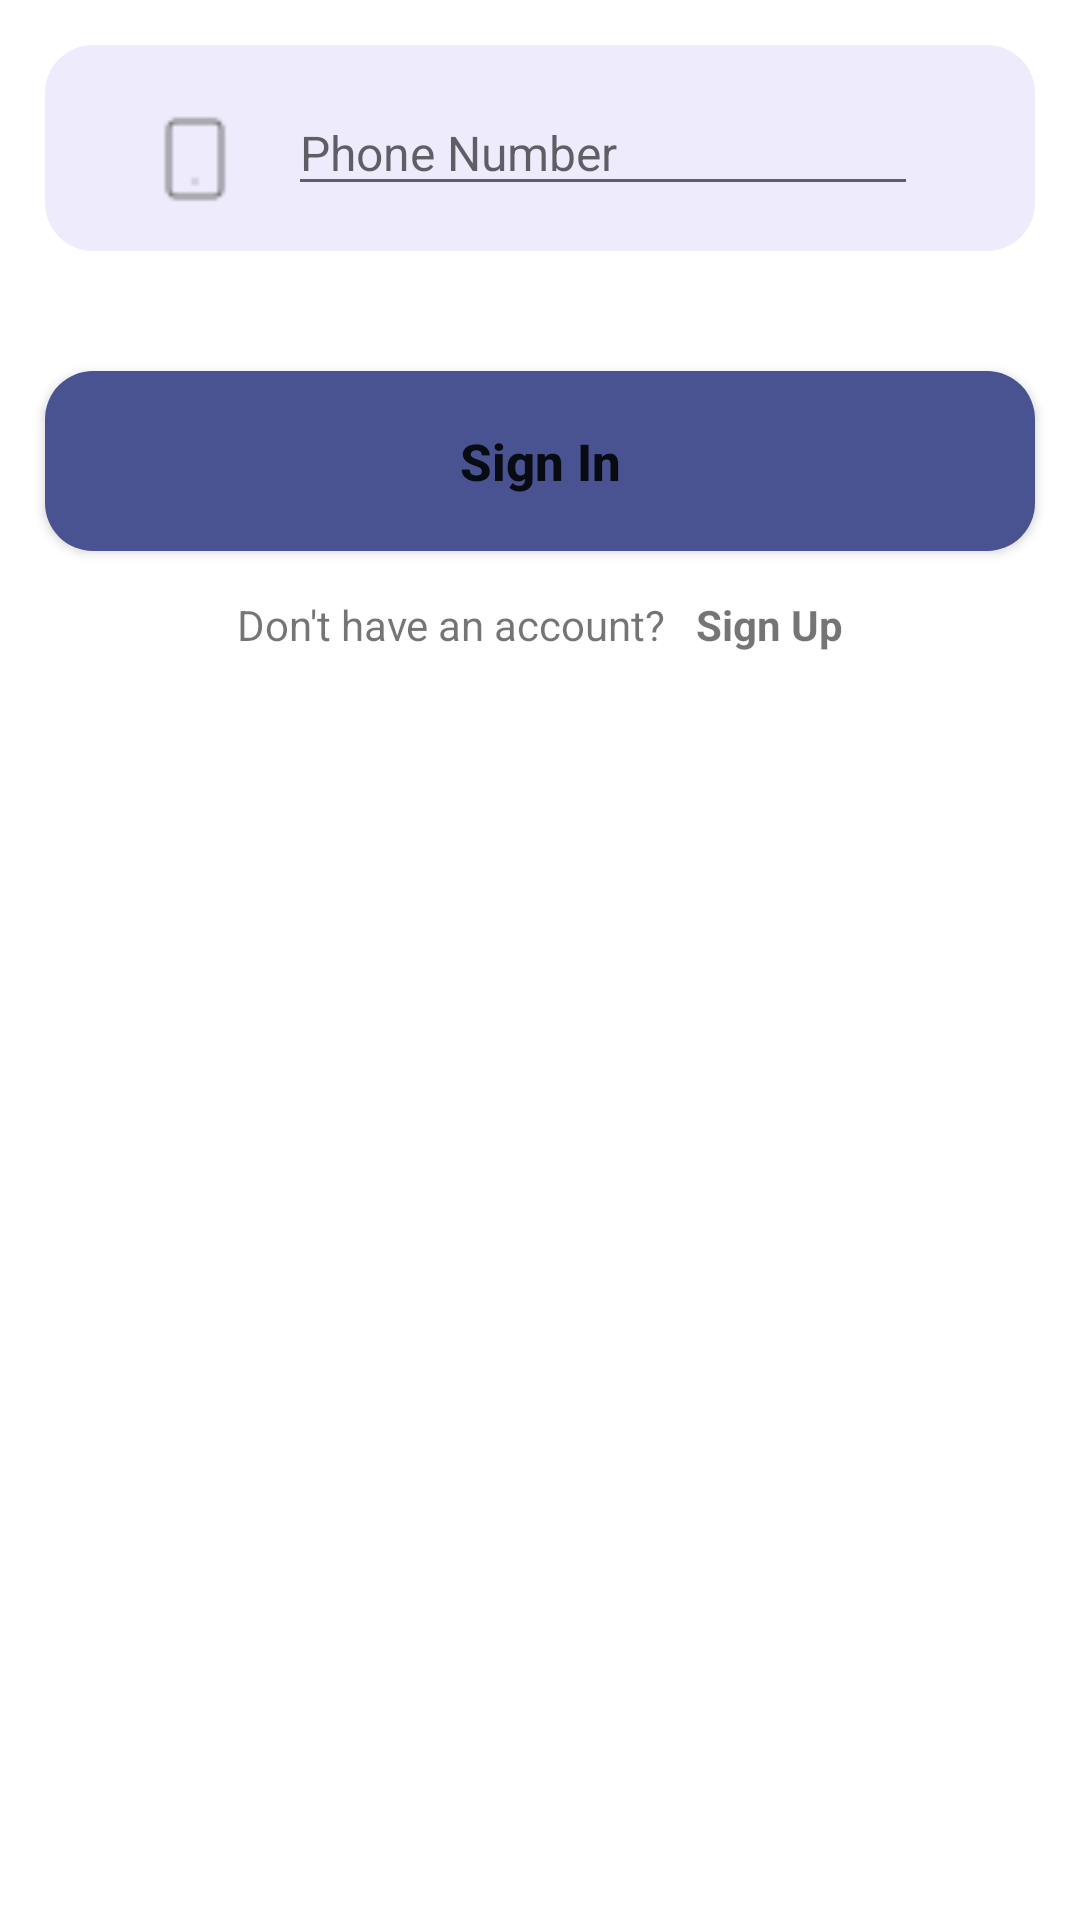

Locate icon controls on the screen. Image size 1080x1920, boxes as (x1, y1, x2, y2).
smartphone: (164, 117, 226, 201)
